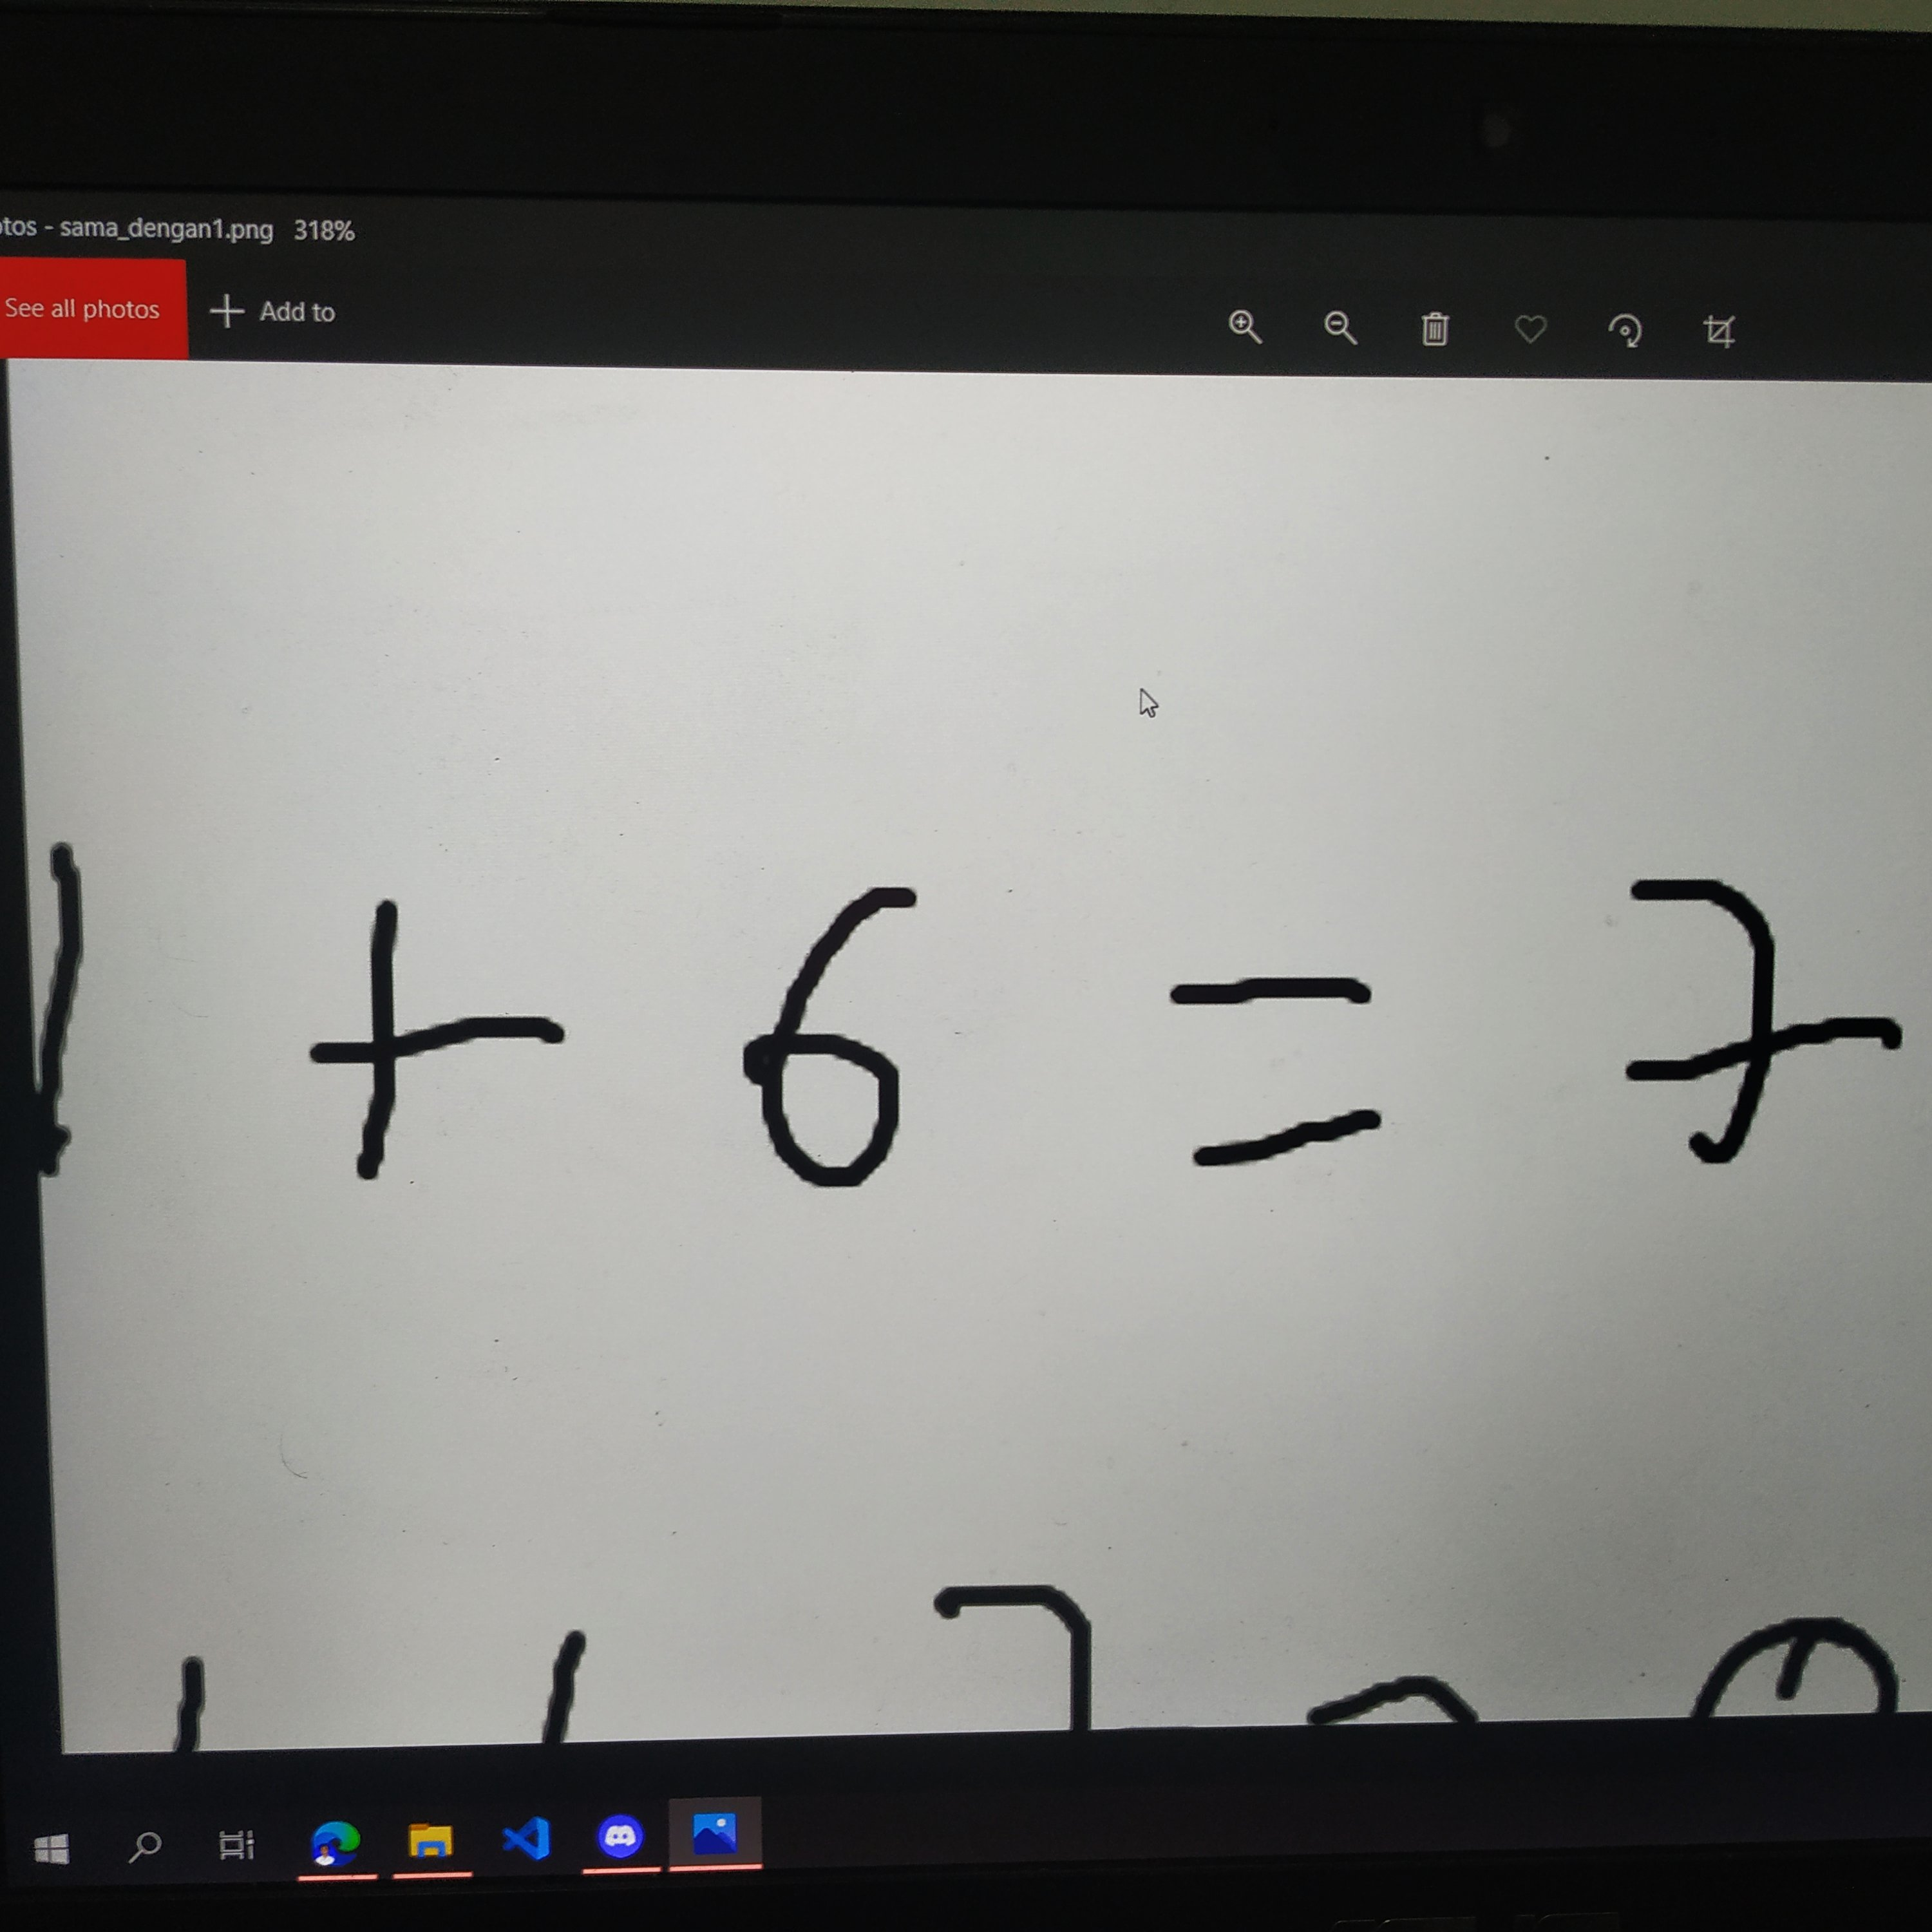equal: (1122, 966, 1434, 1186)
num1: (25, 833, 125, 1192)
num6: (715, 870, 967, 1217)
num7: (1569, 858, 1920, 1175)
sum: (287, 889, 611, 1207)
